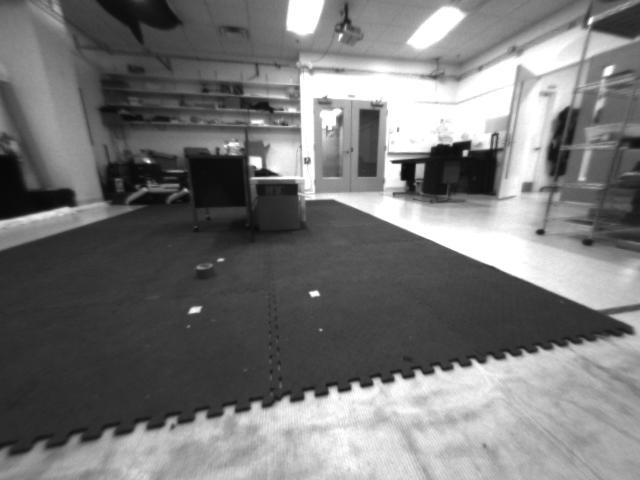dogtoy: (177, 255, 221, 285)
